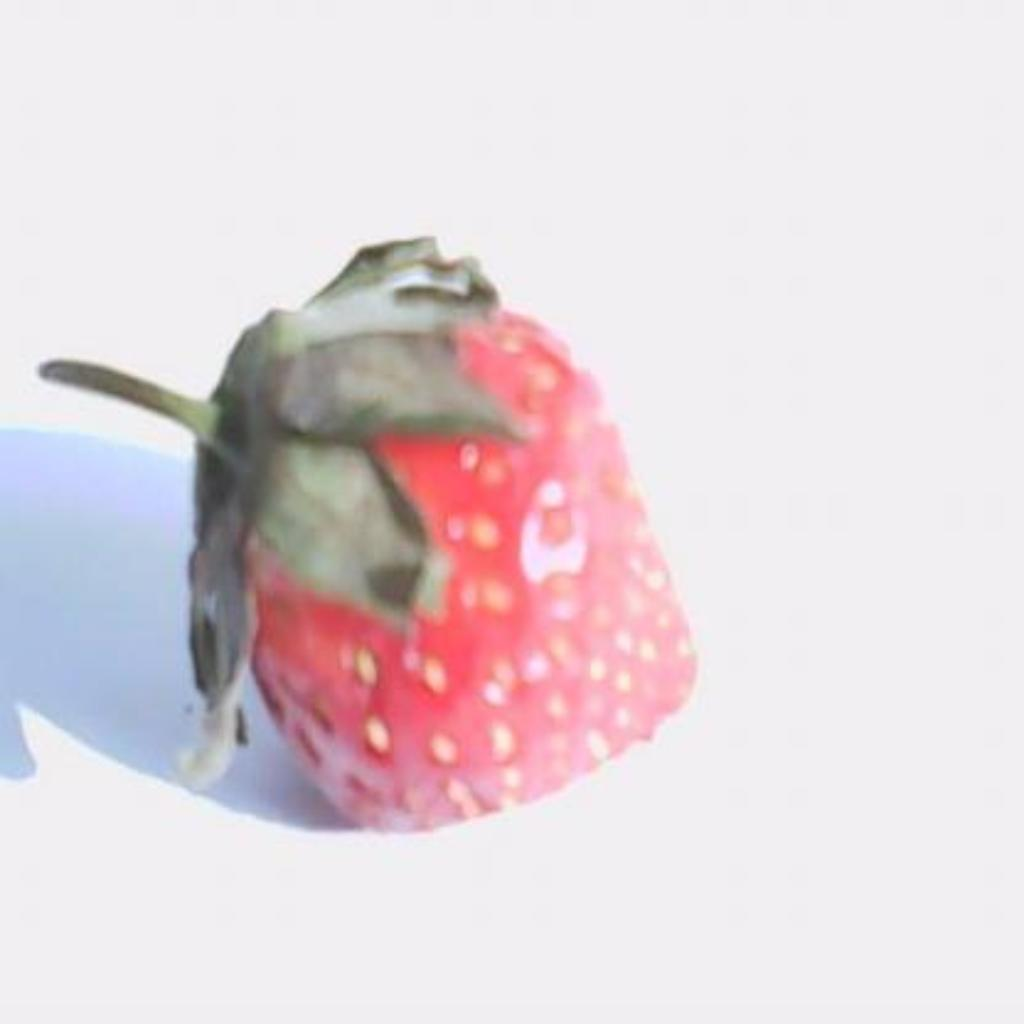strawberry: (40, 238, 692, 828)
